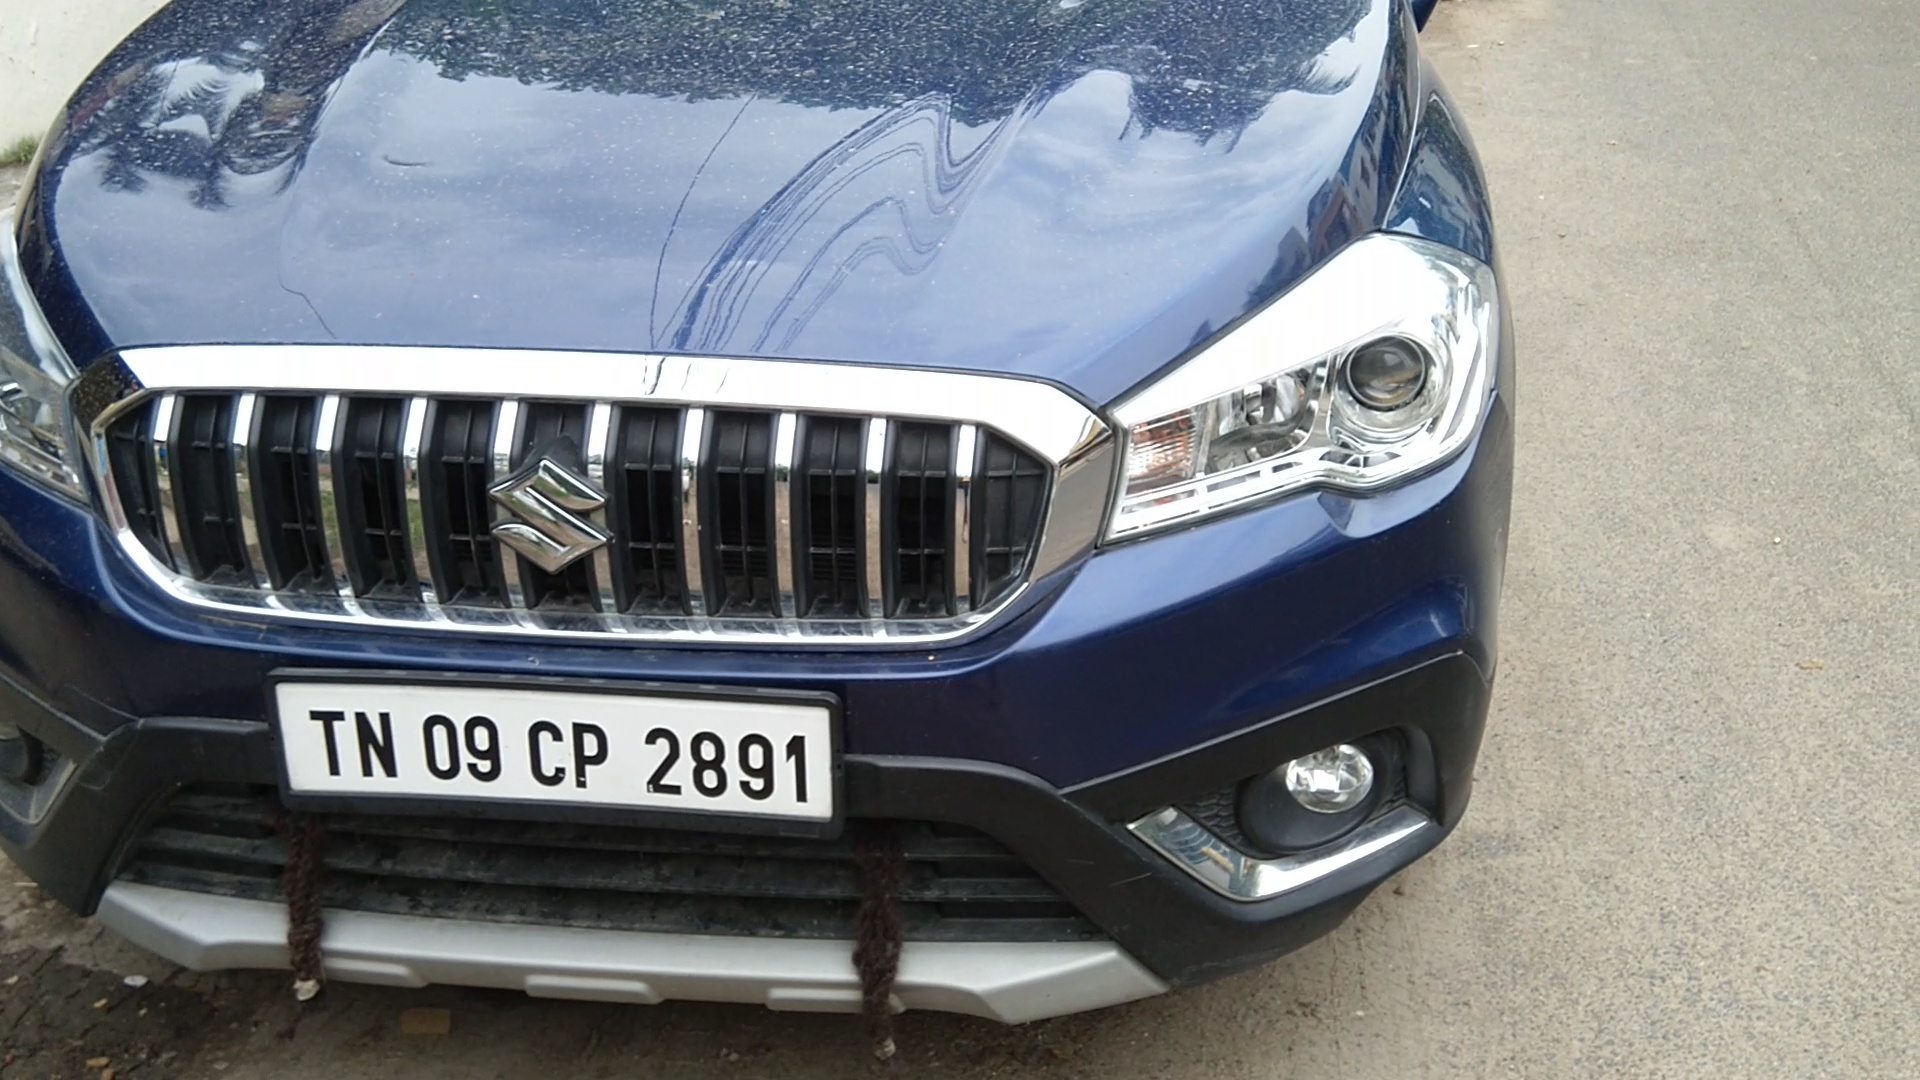front_grill: (70, 334, 1120, 669)
headlamp: (1108, 219, 1502, 568)
